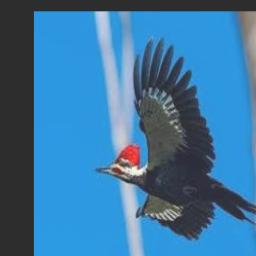Woodpecker: (96, 36, 256, 240)
